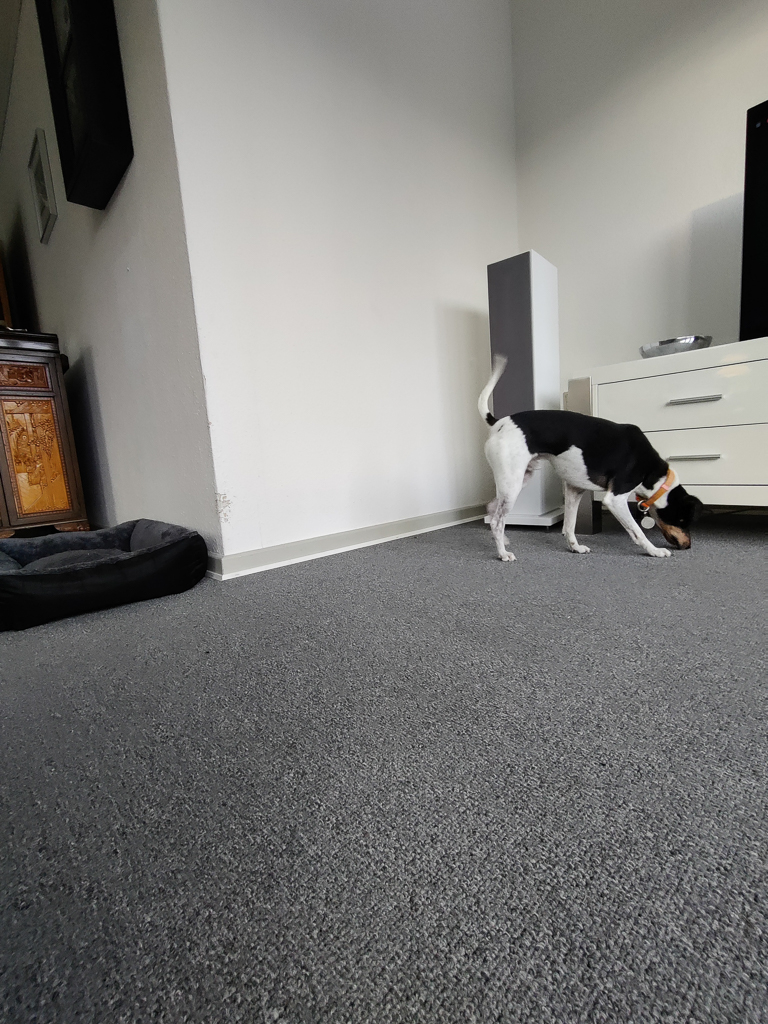Dog: (455, 347, 716, 571)
